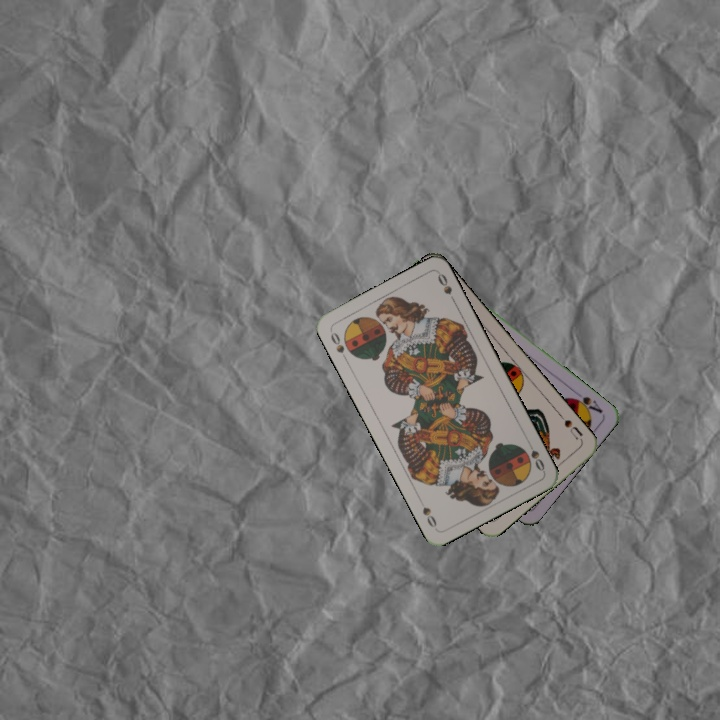SA: (567, 392, 605, 416)
SO: (523, 436, 547, 474), (326, 327, 350, 364)
SU: (555, 409, 585, 443)
